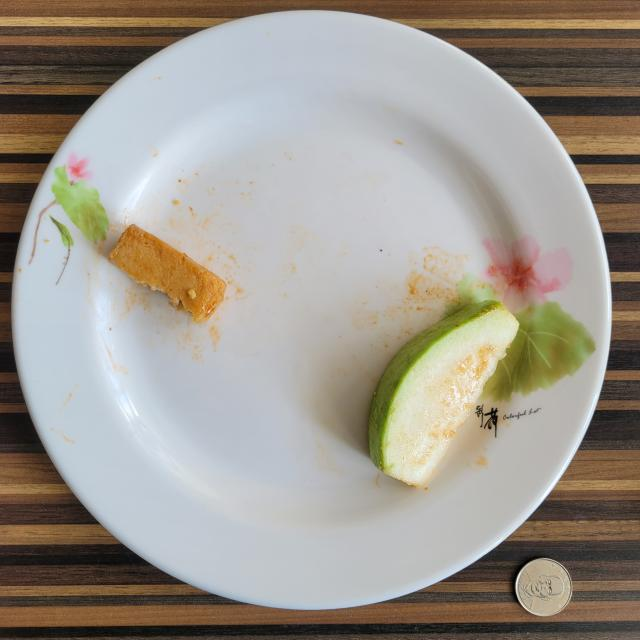coin: (515, 558, 572, 616)
creamy tofu: (109, 225, 226, 322)
guava -sliced-: (369, 300, 519, 488)
